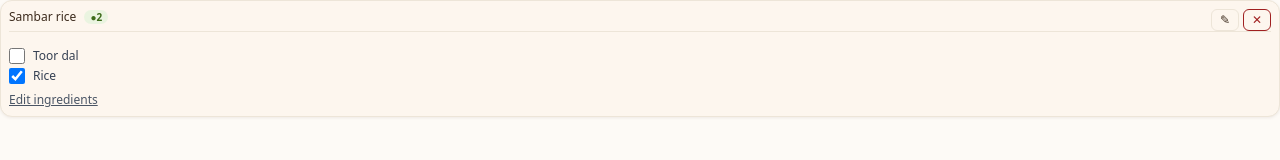
Scenario: MealSlotFilled › tile actions (AC-010) › shows an error when DELETE fails
Click the button named "Delete meal" at (1257, 20), box left=1243, top=9, right=1271, bottom=31
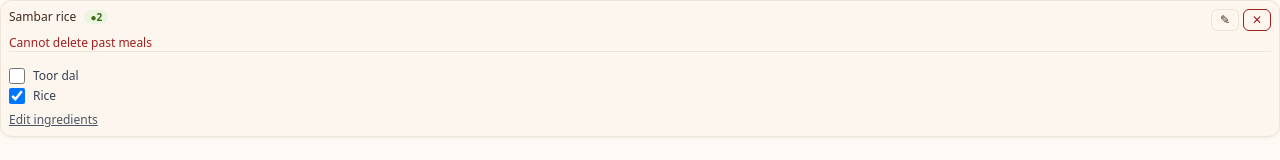
Expected: the message reads "Cannot delete past meals", left=9, top=34, right=152, bottom=51
